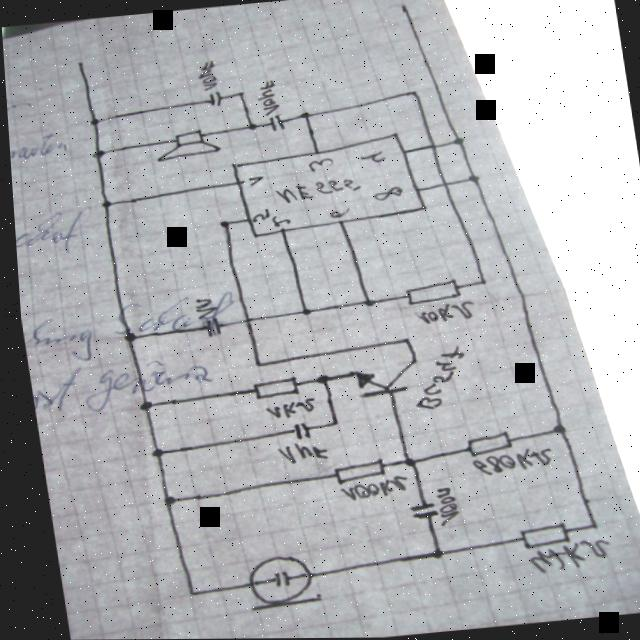capacitor: (400, 502, 432, 521), (283, 421, 305, 441), (198, 319, 218, 338), (266, 115, 284, 132), (205, 92, 222, 108)
crossover: (236, 315, 251, 325), (436, 179, 449, 190), (425, 143, 437, 152)
junction: (116, 331, 133, 343), (131, 401, 149, 412), (396, 457, 411, 470), (422, 549, 438, 561), (154, 495, 170, 507), (142, 448, 159, 459), (308, 375, 325, 386), (88, 149, 104, 160), (544, 424, 560, 435), (448, 137, 465, 147), (463, 174, 478, 185), (358, 298, 372, 309), (96, 200, 110, 210), (86, 117, 100, 127), (580, 521, 592, 532), (176, 589, 190, 598), (296, 112, 310, 121), (215, 220, 228, 229), (295, 308, 308, 317), (472, 279, 486, 287), (396, 336, 407, 346), (244, 123, 256, 132), (407, 89, 417, 98), (247, 361, 258, 369), (234, 90, 245, 97), (323, 420, 333, 427)
resistor: (508, 522, 564, 552), (399, 279, 458, 307), (325, 458, 380, 486), (456, 431, 508, 459), (245, 376, 296, 401)
terminal: (394, 0, 410, 11), (74, 59, 85, 68)
text: (401, 344, 467, 413), (518, 538, 607, 578), (462, 447, 550, 478), (271, 177, 360, 206), (330, 475, 403, 503), (408, 301, 473, 326), (268, 440, 323, 467), (256, 397, 312, 423), (427, 487, 454, 529), (252, 80, 281, 118), (194, 61, 218, 93), (368, 185, 402, 204), (188, 297, 215, 320), (303, 158, 333, 174), (355, 151, 385, 166), (247, 208, 267, 224), (267, 215, 288, 230), (325, 207, 349, 220), (243, 175, 263, 187)
transistor: (344, 358, 418, 401)
